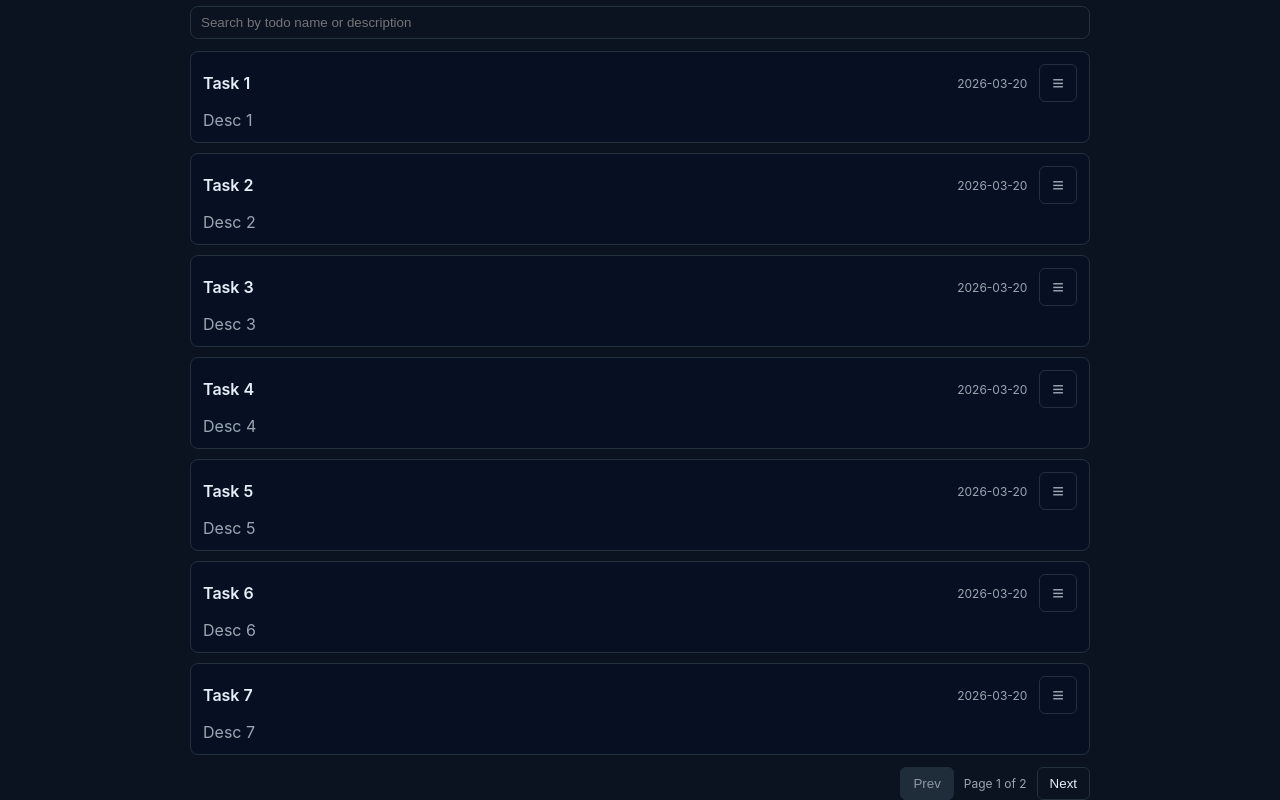
Test case: DashboardComponent › paginates when more than 5 todos
(page scrolled)
Expected: the text "Task 1" is shown, [203,73,250,93]
Expected: the text "Task 8" is not shown
Click the button "Next" at (1063, 784), box [1037,767,1090,799]
(page scrolled)
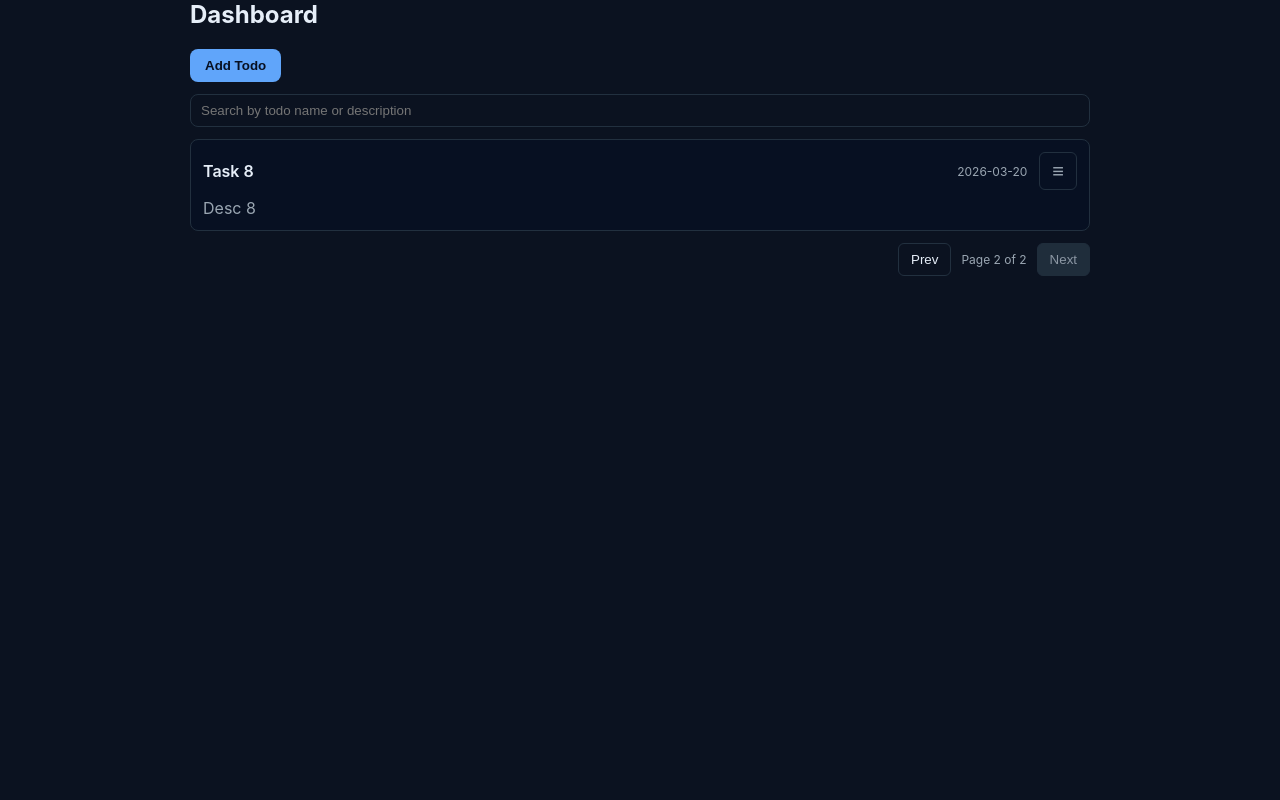
Now the text "Task 8" is shown, box [203,161,254,181]
Click the button "Prev" at (925, 260), box [898,243,951,276]
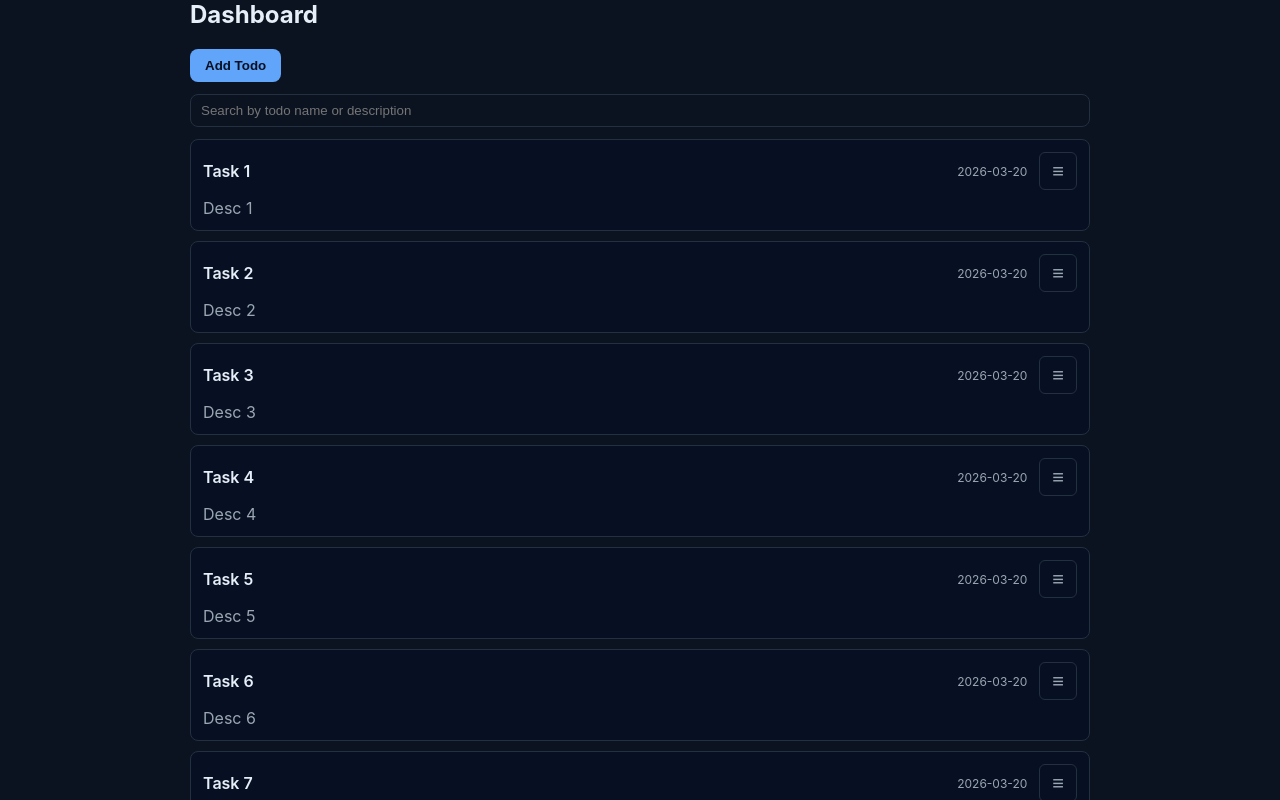
Now the text "Task 1" is shown, box [203,161,250,181]
